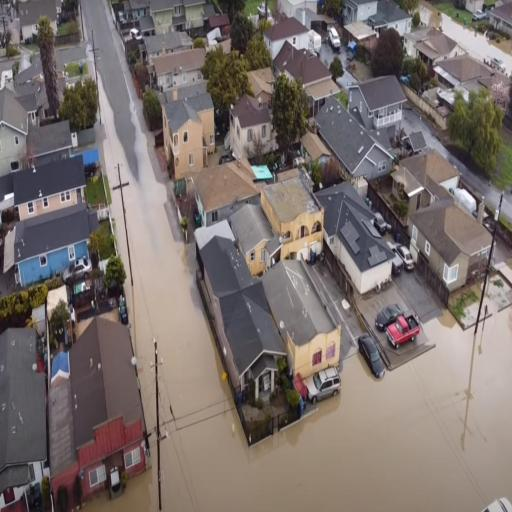flood: (87, 88, 512, 511), (109, 189, 134, 340)
house: (50, 317, 154, 509), (202, 220, 285, 407), (259, 253, 345, 404), (318, 180, 400, 302), (2, 315, 43, 512), (309, 83, 391, 176), (412, 200, 492, 294), (10, 207, 92, 286), (258, 172, 324, 261), (156, 90, 217, 180), (434, 55, 510, 122), (188, 161, 260, 227), (11, 151, 89, 208), (350, 73, 406, 135), (403, 144, 461, 203), (150, 47, 210, 98), (234, 92, 273, 160), (1, 86, 29, 178), (148, 0, 206, 37), (18, 0, 64, 45), (269, 17, 312, 59), (380, 3, 414, 37), (487, 0, 512, 44)
